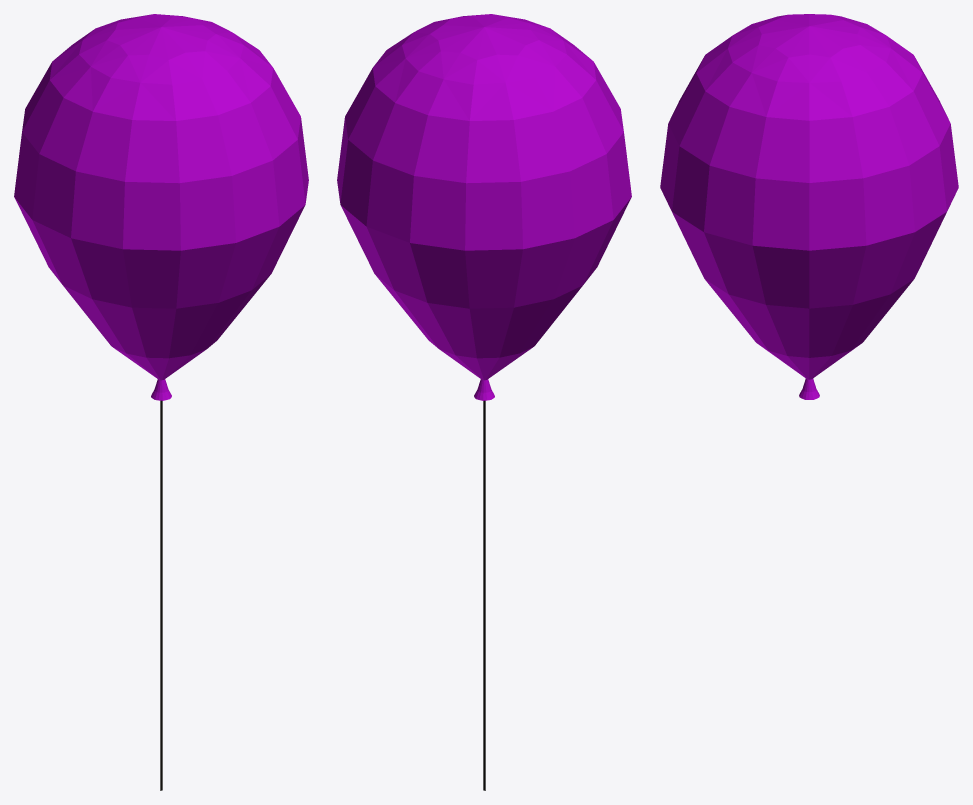
The model's file is BallonPinky.obj.
3 views of the same model, side by side, from view 1: azimuth 30°, elevation 25°; view 2: azimuth 150°, elevation 25°; view 3: azimuth 270°, elevation 25° (orthographic).
Visible parts, largest first — view 1: BallonPink_BallonPink_BallonPink, BallonPink_BallonPink_String; view 2: BallonPink_BallonPink_BallonPink, BallonPink_BallonPink_String; view 3: BallonPink_BallonPink_BallonPink.
Part boxes in pixels (box(x1,y1,x2,y2)): BallonPink_BallonPink_BallonPink: box(14, 14, 308, 400); BallonPink_BallonPink_String: box(160, 400, 162, 790); BallonPink_BallonPink_BallonPink: box(337, 14, 631, 400); BallonPink_BallonPink_String: box(483, 400, 485, 790); BallonPink_BallonPink_BallonPink: box(660, 14, 958, 399).
Bounding box in the file's own units: 1.67 × 4.72 × 1.67.
